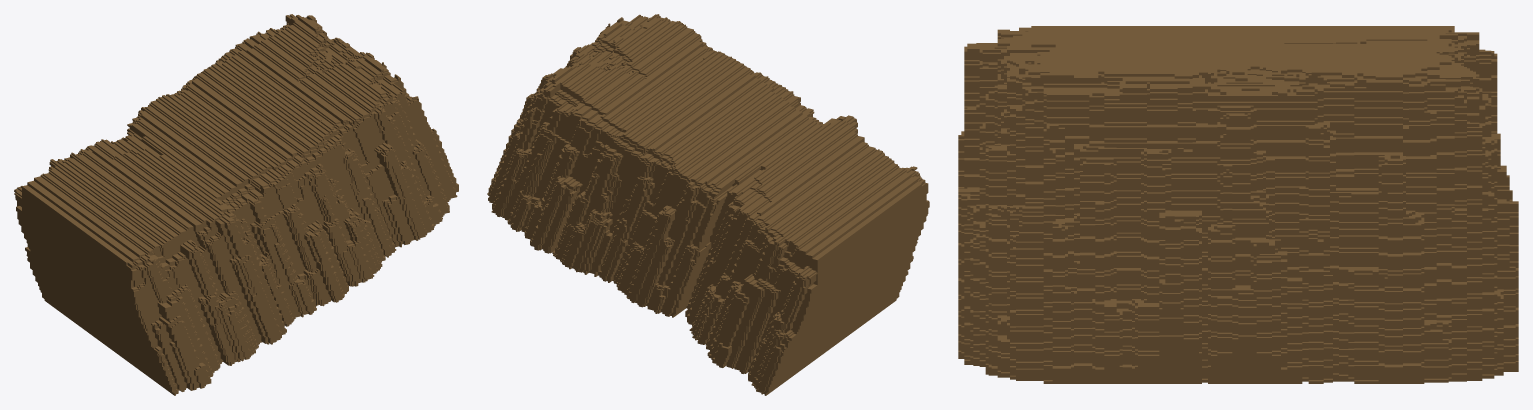
Rendered from forest1.1-105.obj.
3 views of the same model, side by side, from view 1: azimuth 30°, elevation 25°; view 2: azimuth 150°, elevation 25°; view 3: azimuth 270°, elevation 25° (orthographic). The views are drawn at different scales.
Bounding box in the file's own units: 25.6 × 17.7 × 18.4.
1 material, 1 textured.
